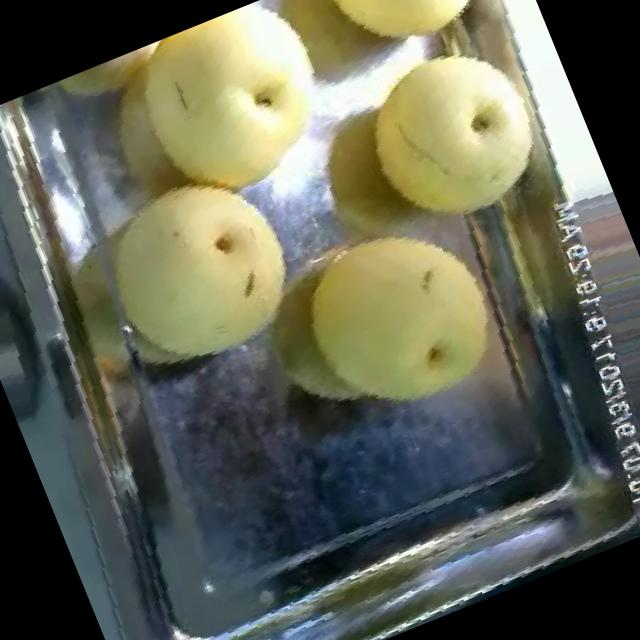Fruit: (66, 141, 328, 397), (273, 192, 524, 447), (108, 0, 354, 231), (336, 19, 568, 254), (306, 0, 494, 81)
